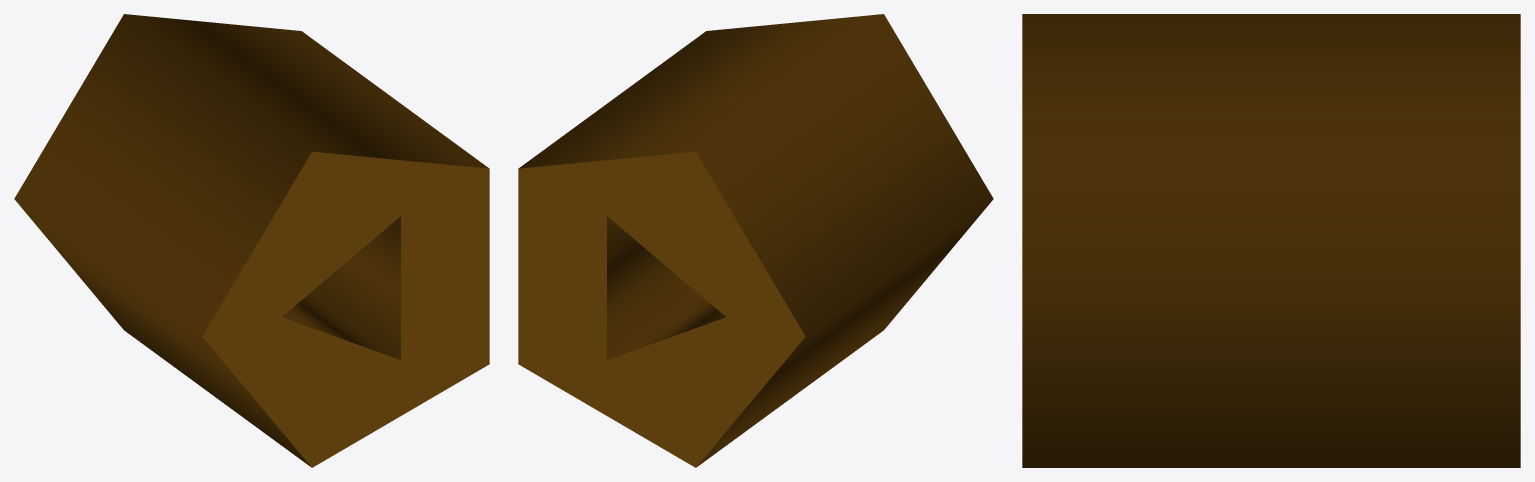
File: Copie de Piece laiton D 1.5_Laiton _X2_00d8_X0_2^Copie de ASS pilier 4_Horloge Comtoise Verge - Sonnerie.obj
3 views of the same model, side by side, from view 1: azimuth 30°, elevation 25°; view 2: azimuth 150°, elevation 25°; view 3: azimuth 270°, elevation 25° (orthographic). The views are drawn at different scales.
Visible parts, largest first — view 1: Face_1, Face_2, Face_4; view 2: Face_1, Face_3, Face_4; view 3: Face_1.
Boxes of the visible parts, x1,y1,x2,y2 form: Face_1: (14, 14, 488, 467); Face_2: (202, 151, 489, 467); Face_4: (282, 216, 400, 359); Face_1: (519, 14, 993, 467); Face_3: (518, 151, 805, 467); Face_4: (607, 216, 725, 359); Face_1: (1022, 14, 1520, 467).
Size of the model in its own units: 0.00362 by 0.0038 by 0.0041.
